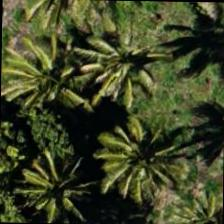Kelapa_Sawit: (77, 16, 169, 108), (76, 113, 168, 205), (0, 133, 87, 223), (0, 42, 80, 134)
